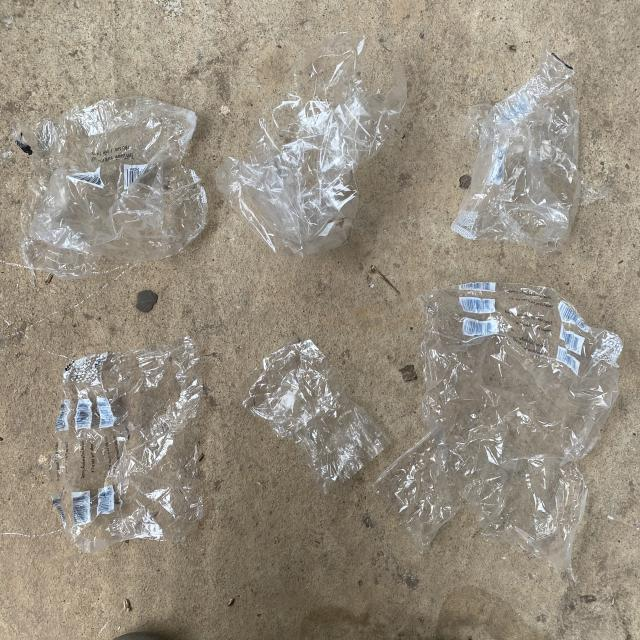Single-layer Plastic: (374, 282, 622, 572), (216, 34, 406, 256), (14, 96, 208, 279), (49, 338, 202, 552), (451, 42, 584, 252), (242, 335, 390, 494)
